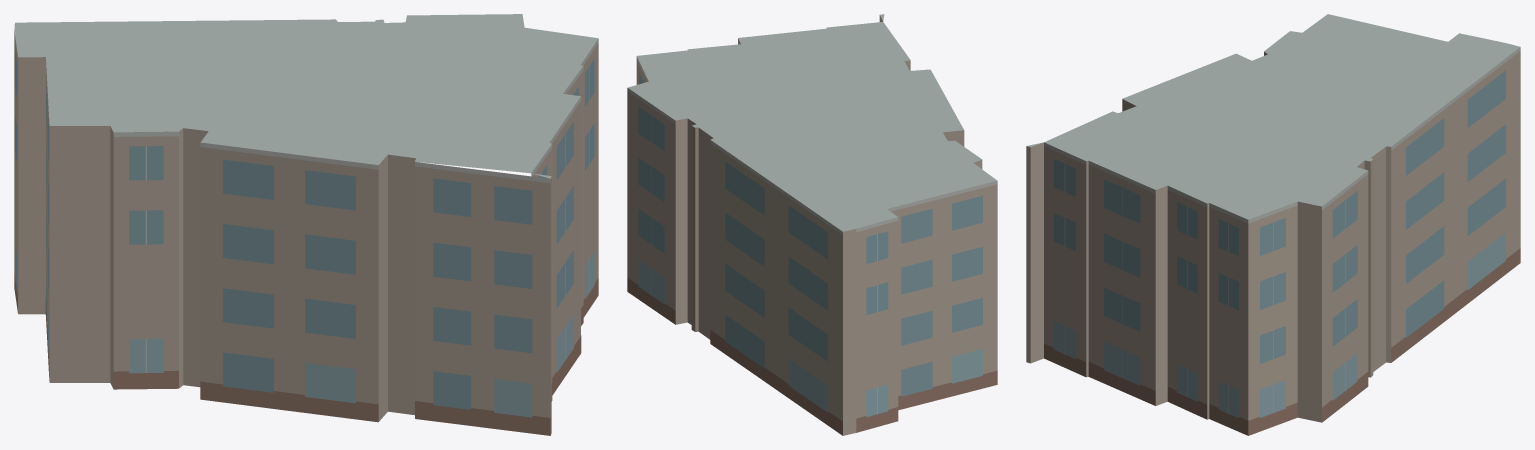
Rendered from survey-upis-33035482.glb.
3 views of the same model, side by side, from view 1: azimuth 30°, elevation 25°; view 2: azimuth 150°, elevation 25°; view 3: azimuth 270°, elevation 25° (orthographic). The views are drawn at different scales.
Visible parts, largest first — view 1: survey-upis-33035482.tmp; view 2: survey-upis-33035482.tmp; view 3: survey-upis-33035482.tmp.
Boxes of the visible parts, bbox=[...] form: survey-upis-33035482.tmp: bbox=[14, 14, 598, 435]; survey-upis-33035482.tmp: bbox=[627, 14, 997, 435]; survey-upis-33035482.tmp: bbox=[1026, 14, 1520, 435].
Size of the model in its own units: 28.15 by 13.78 by 28.58.
